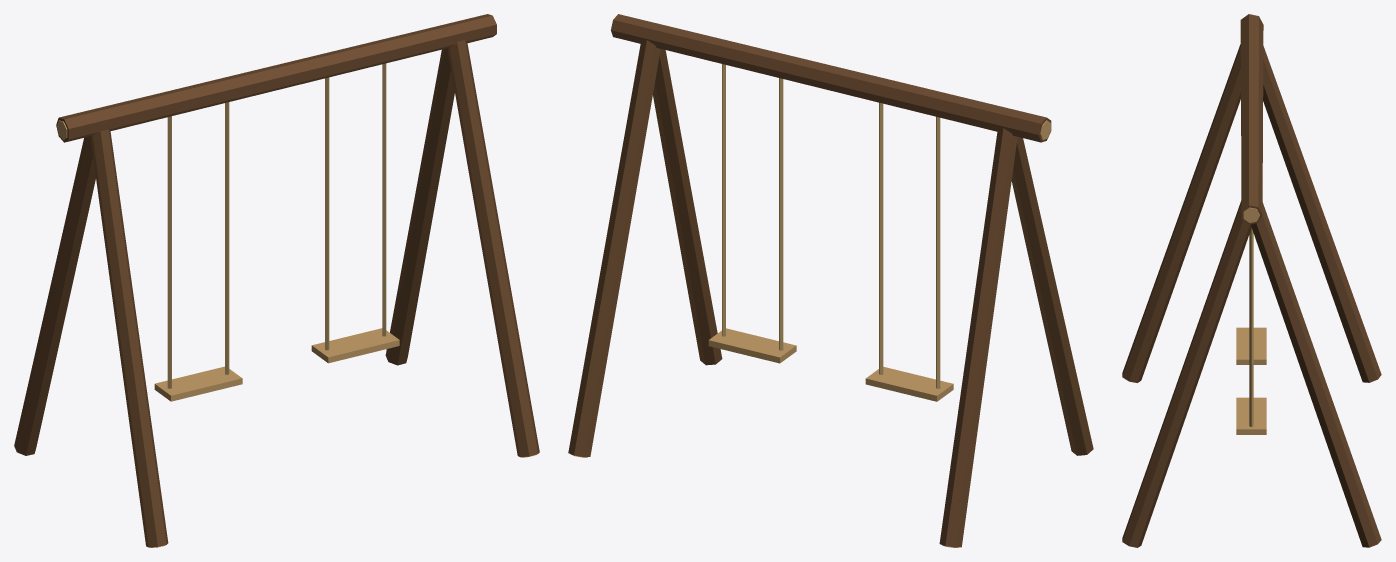
The model's file is annex_playground.glb.
3 renders of one model, left to right at view 1: azimuth 30°, elevation 25°; view 2: azimuth 150°, elevation 25°; view 3: azimuth 270°, elevation 25°, orthographic. The views are drawn at different scales.
Parts seen in each view (by area): view 1: annex_playground_swing; view 2: annex_playground_swing; view 3: annex_playground_swing.
Part boxes in pixels (x1=…): annex_playground_swing: x1=14, y1=14, x2=539, y2=547; annex_playground_swing: x1=568, y1=14, x2=1093, y2=547; annex_playground_swing: x1=1122, y1=14, x2=1381, y2=547.
Size of the model in its own units: 3.01 by 2.6 by 1.73.
